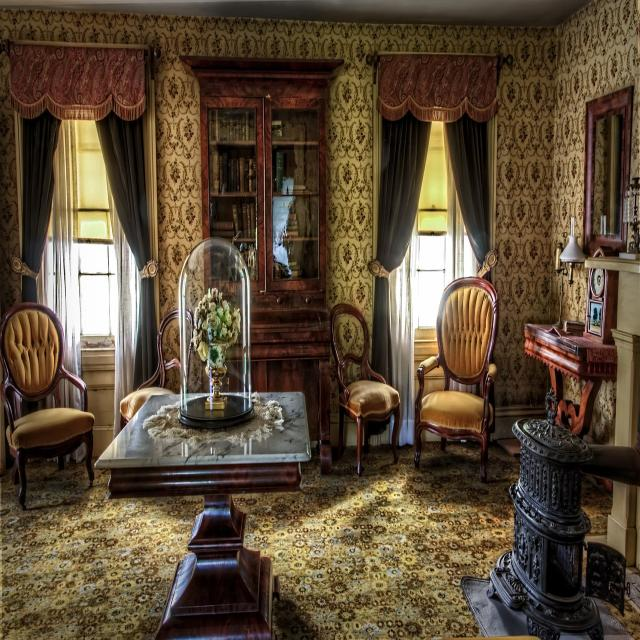floor: (232, 439, 520, 640), (0, 455, 205, 640), (580, 475, 612, 537), (607, 597, 640, 640), (625, 567, 640, 613), (581, 545, 587, 588)
wall: (0, 8, 558, 407), (550, 0, 640, 323), (614, 345, 633, 447), (561, 263, 588, 323), (617, 273, 640, 337), (608, 486, 637, 530), (610, 481, 630, 527), (607, 516, 626, 558), (625, 530, 636, 568)
